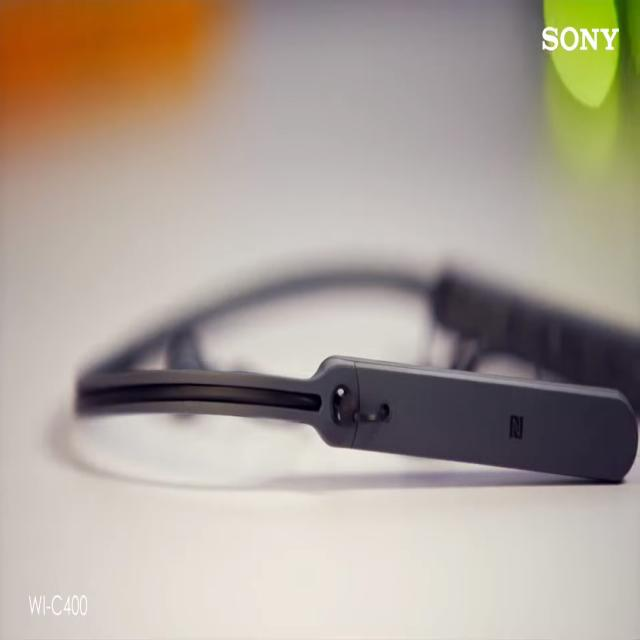Neckband: (75, 248, 640, 484)
